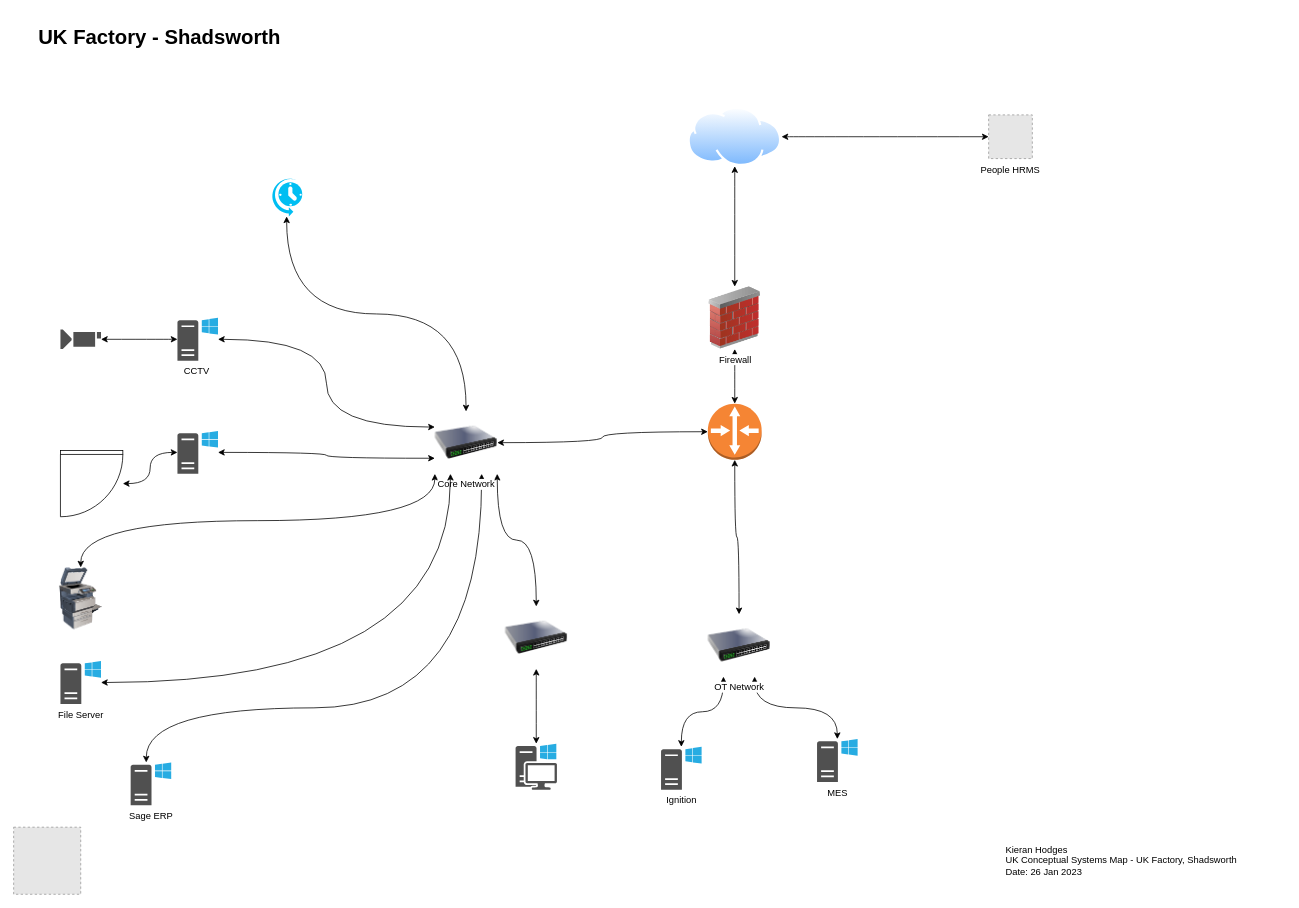
Some shapes in this 1299 by 908 pixel diagram are drawn without their labels. Grey dashed boxes stand in for pictures. Here are the shapes that lost their labels. From the top down, the box of each, then its label:
(688, 107, 781, 166): Internet
(271, 177, 302, 216): Kronos Clock
(60, 329, 101, 349): CCTV Cameras
(177, 431, 218, 473): Access Control
(505, 606, 567, 668): Access Network
